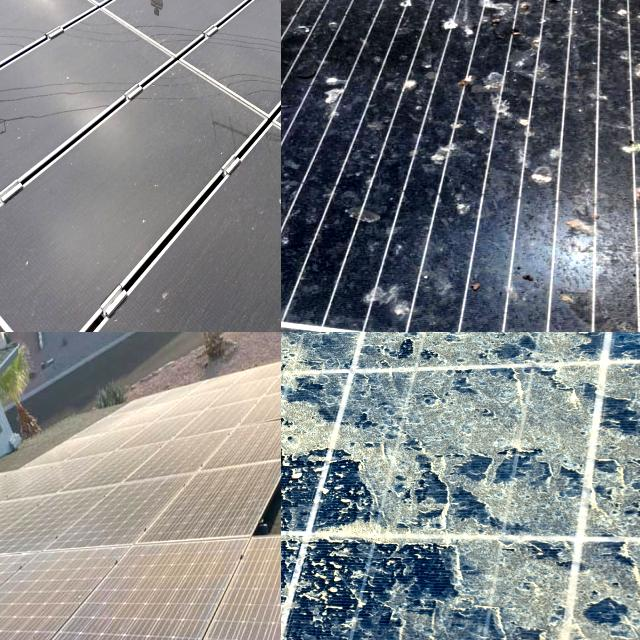bird: (295, 183, 476, 332), (525, 167, 640, 332), (457, 0, 542, 157), (568, 39, 640, 162), (483, 0, 623, 62), (396, 66, 473, 171), (281, 35, 372, 121), (281, 0, 382, 52), (471, 0, 604, 32), (381, 0, 480, 41), (364, 0, 449, 31)
dust: (350, 376, 560, 511), (281, 536, 504, 640), (50, 0, 238, 89), (0, 173, 90, 332), (281, 385, 386, 517), (143, 48, 216, 236), (408, 332, 602, 396), (114, 545, 235, 640), (417, 332, 640, 378), (281, 526, 364, 640), (548, 546, 640, 640), (2, 33, 70, 158), (13, 546, 98, 640), (594, 360, 640, 527), (195, 376, 281, 460), (241, 170, 281, 332), (0, 555, 63, 640), (281, 332, 385, 383), (281, 332, 362, 396), (116, 403, 184, 475), (281, 332, 324, 427), (191, 464, 252, 530), (109, 295, 211, 332), (111, 496, 186, 544), (0, 505, 86, 544), (38, 450, 108, 492), (0, 574, 29, 640), (0, 465, 34, 503), (0, 523, 16, 554)
